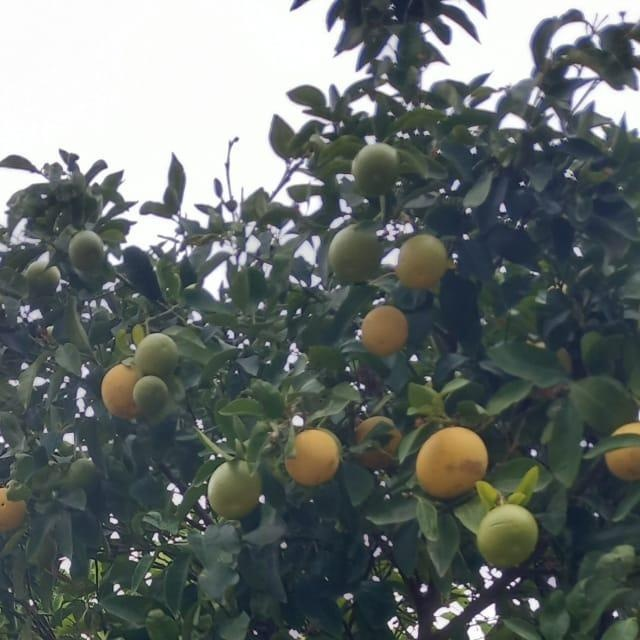orange: (412, 423, 490, 497), (478, 498, 540, 568), (322, 221, 384, 285), (390, 231, 454, 291), (205, 459, 265, 521), (346, 142, 404, 200), (284, 426, 344, 482), (352, 413, 406, 465), (100, 360, 150, 416), (358, 300, 410, 352), (133, 331, 183, 373), (606, 419, 640, 475), (132, 372, 170, 418), (65, 230, 107, 268), (21, 256, 61, 294), (0, 481, 30, 529), (0, 276, 6, 326), (0, 446, 2, 484)
